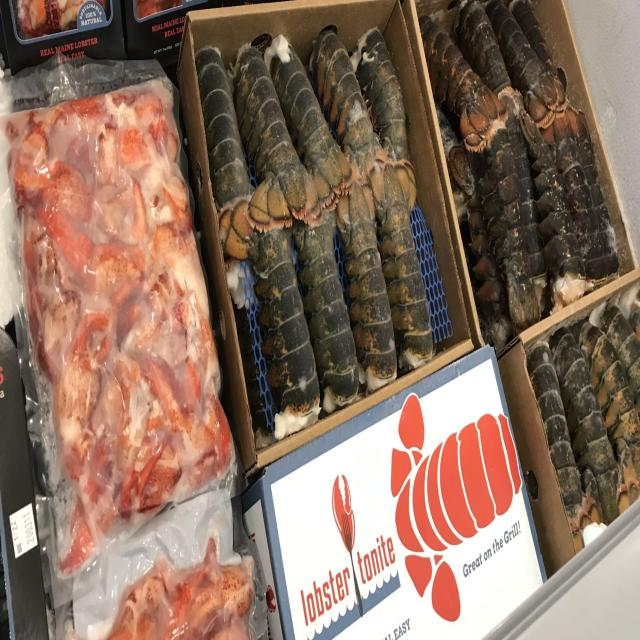Lobster: (232, 46, 320, 230), (265, 35, 351, 207), (371, 164, 432, 369), (338, 182, 396, 389), (419, 16, 506, 152), (195, 46, 251, 212), (488, 0, 560, 129)
